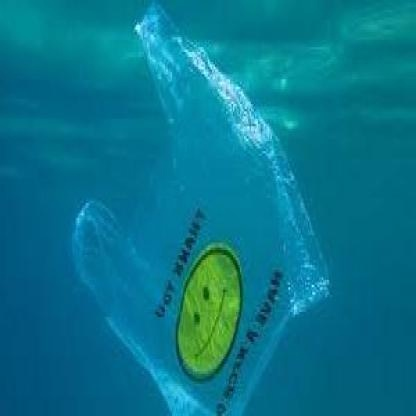pbag: (69, 2, 333, 416)
